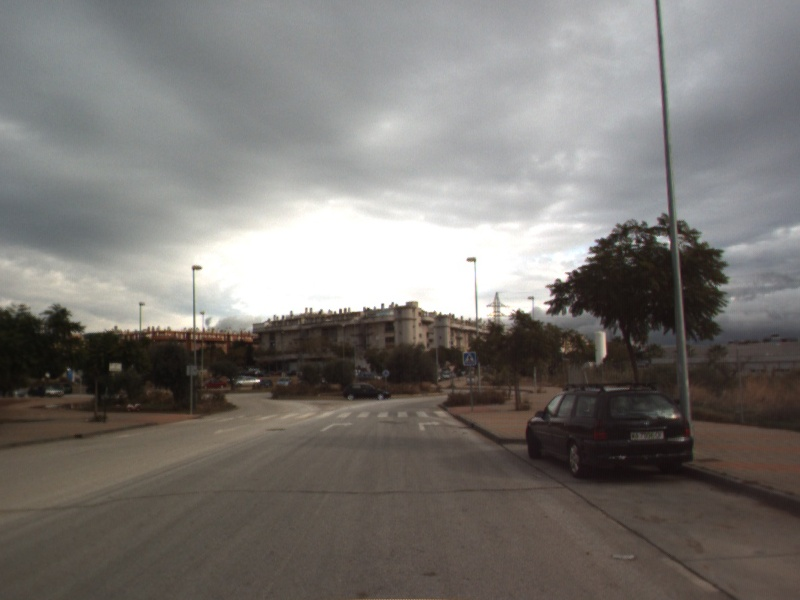RIGHT: (318, 419, 355, 433), (416, 418, 443, 432)
